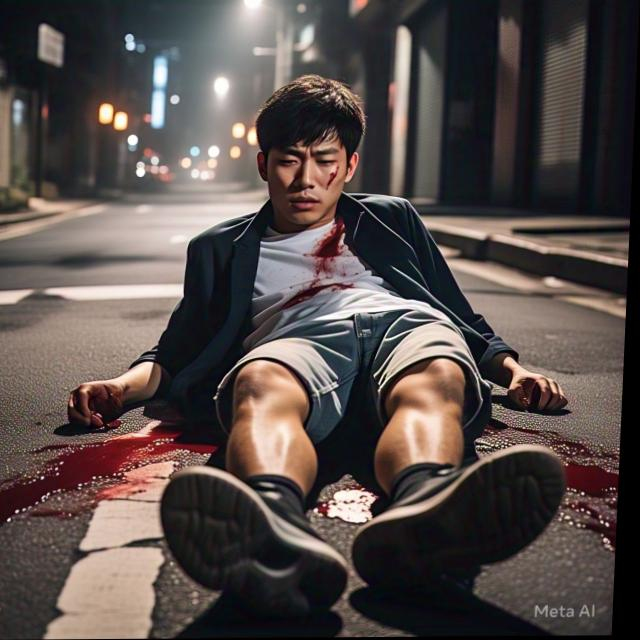injury: (248, 81, 359, 233), (71, 383, 121, 435)
